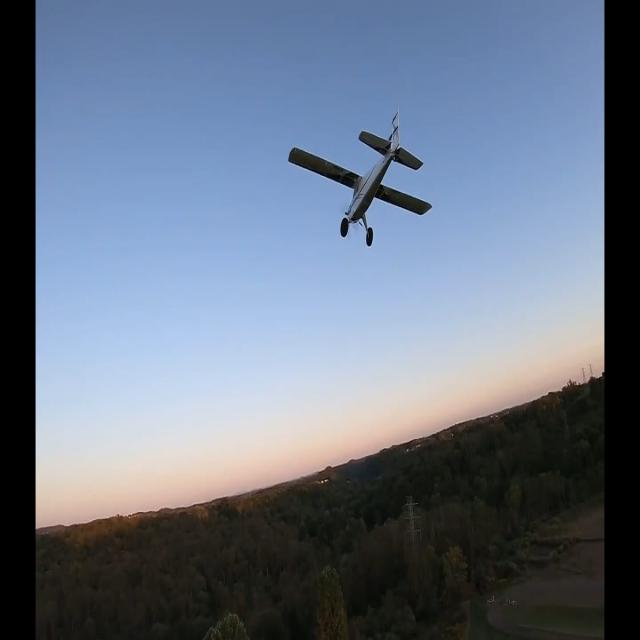iha: (288, 107, 434, 248)
